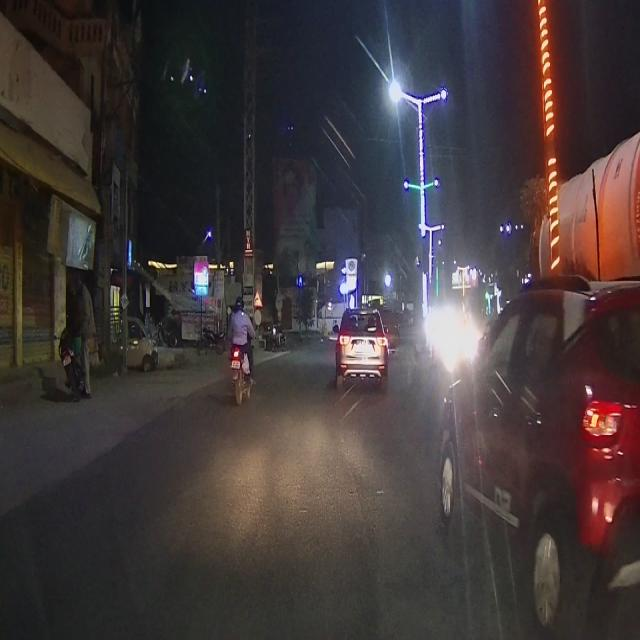right-hand-curve: (254, 292, 264, 312)
